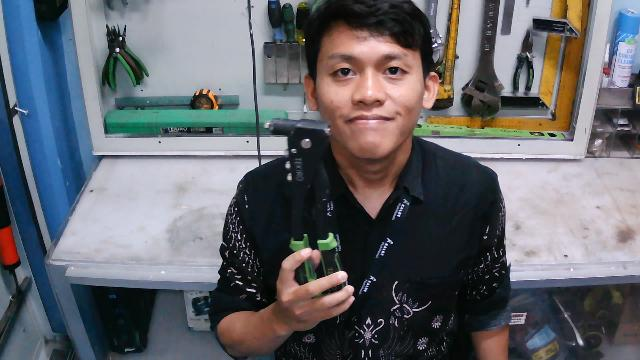tang_rivet: (259, 118, 349, 302)
